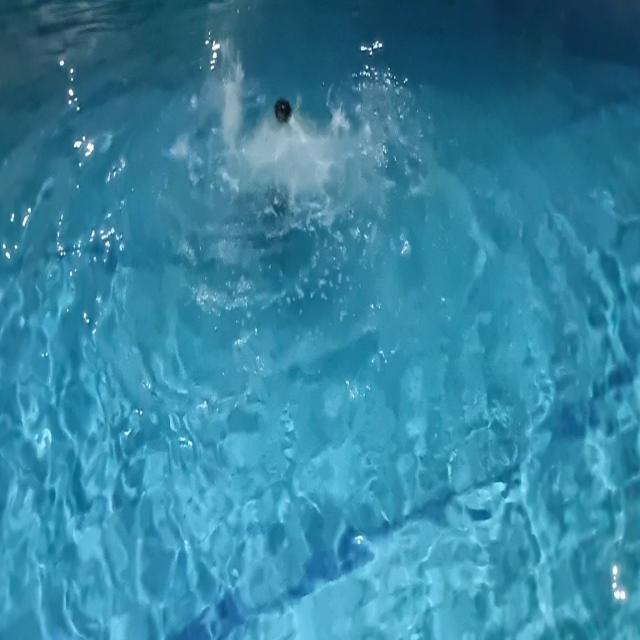Drowning: (193, 36, 361, 210)
